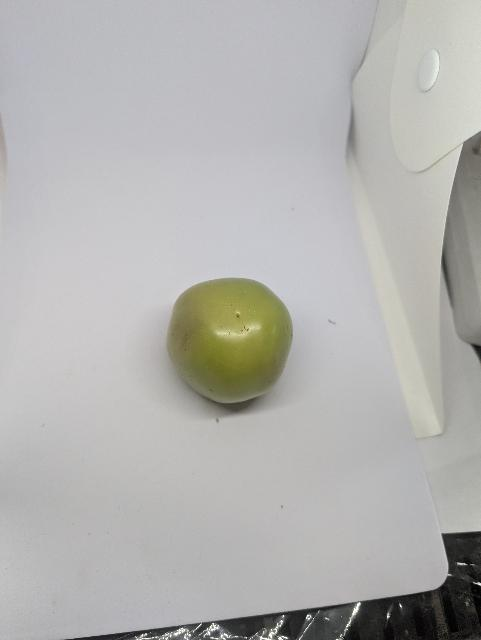green: (140, 265, 301, 414)
